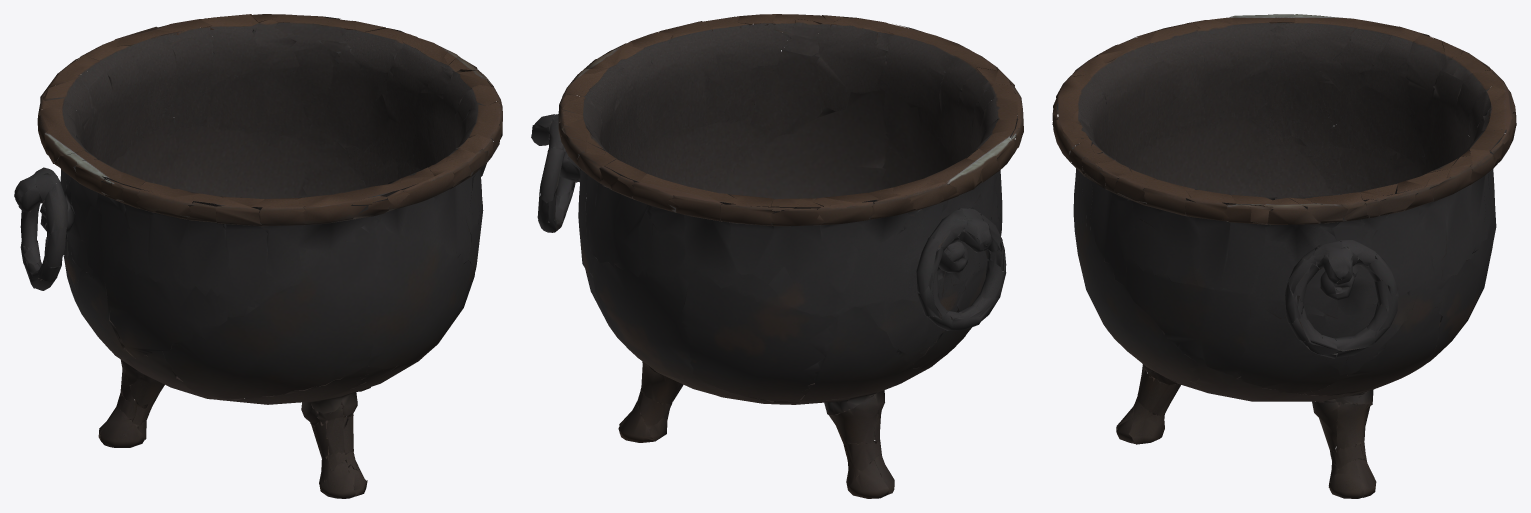
Rendered from cauldron.glb.
3 renders of one model, left to right at view 1: azimuth 30°, elevation 25°; view 2: azimuth 150°, elevation 25°; view 3: azimuth 270°, elevation 25°, orthographic.
Visible parts, largest first — view 1: cauldron_lod; view 2: cauldron_lod; view 3: cauldron_lod.
Part boxes in pixels (box(x1,y1,x2,y2)): cauldron_lod: box(14, 14, 502, 498); cauldron_lod: box(531, 14, 1023, 498); cauldron_lod: box(1052, 14, 1516, 498).
Size of the model in its own units: 0.8777 by 0.6015 by 0.7775.
1 material, 1 textured.
